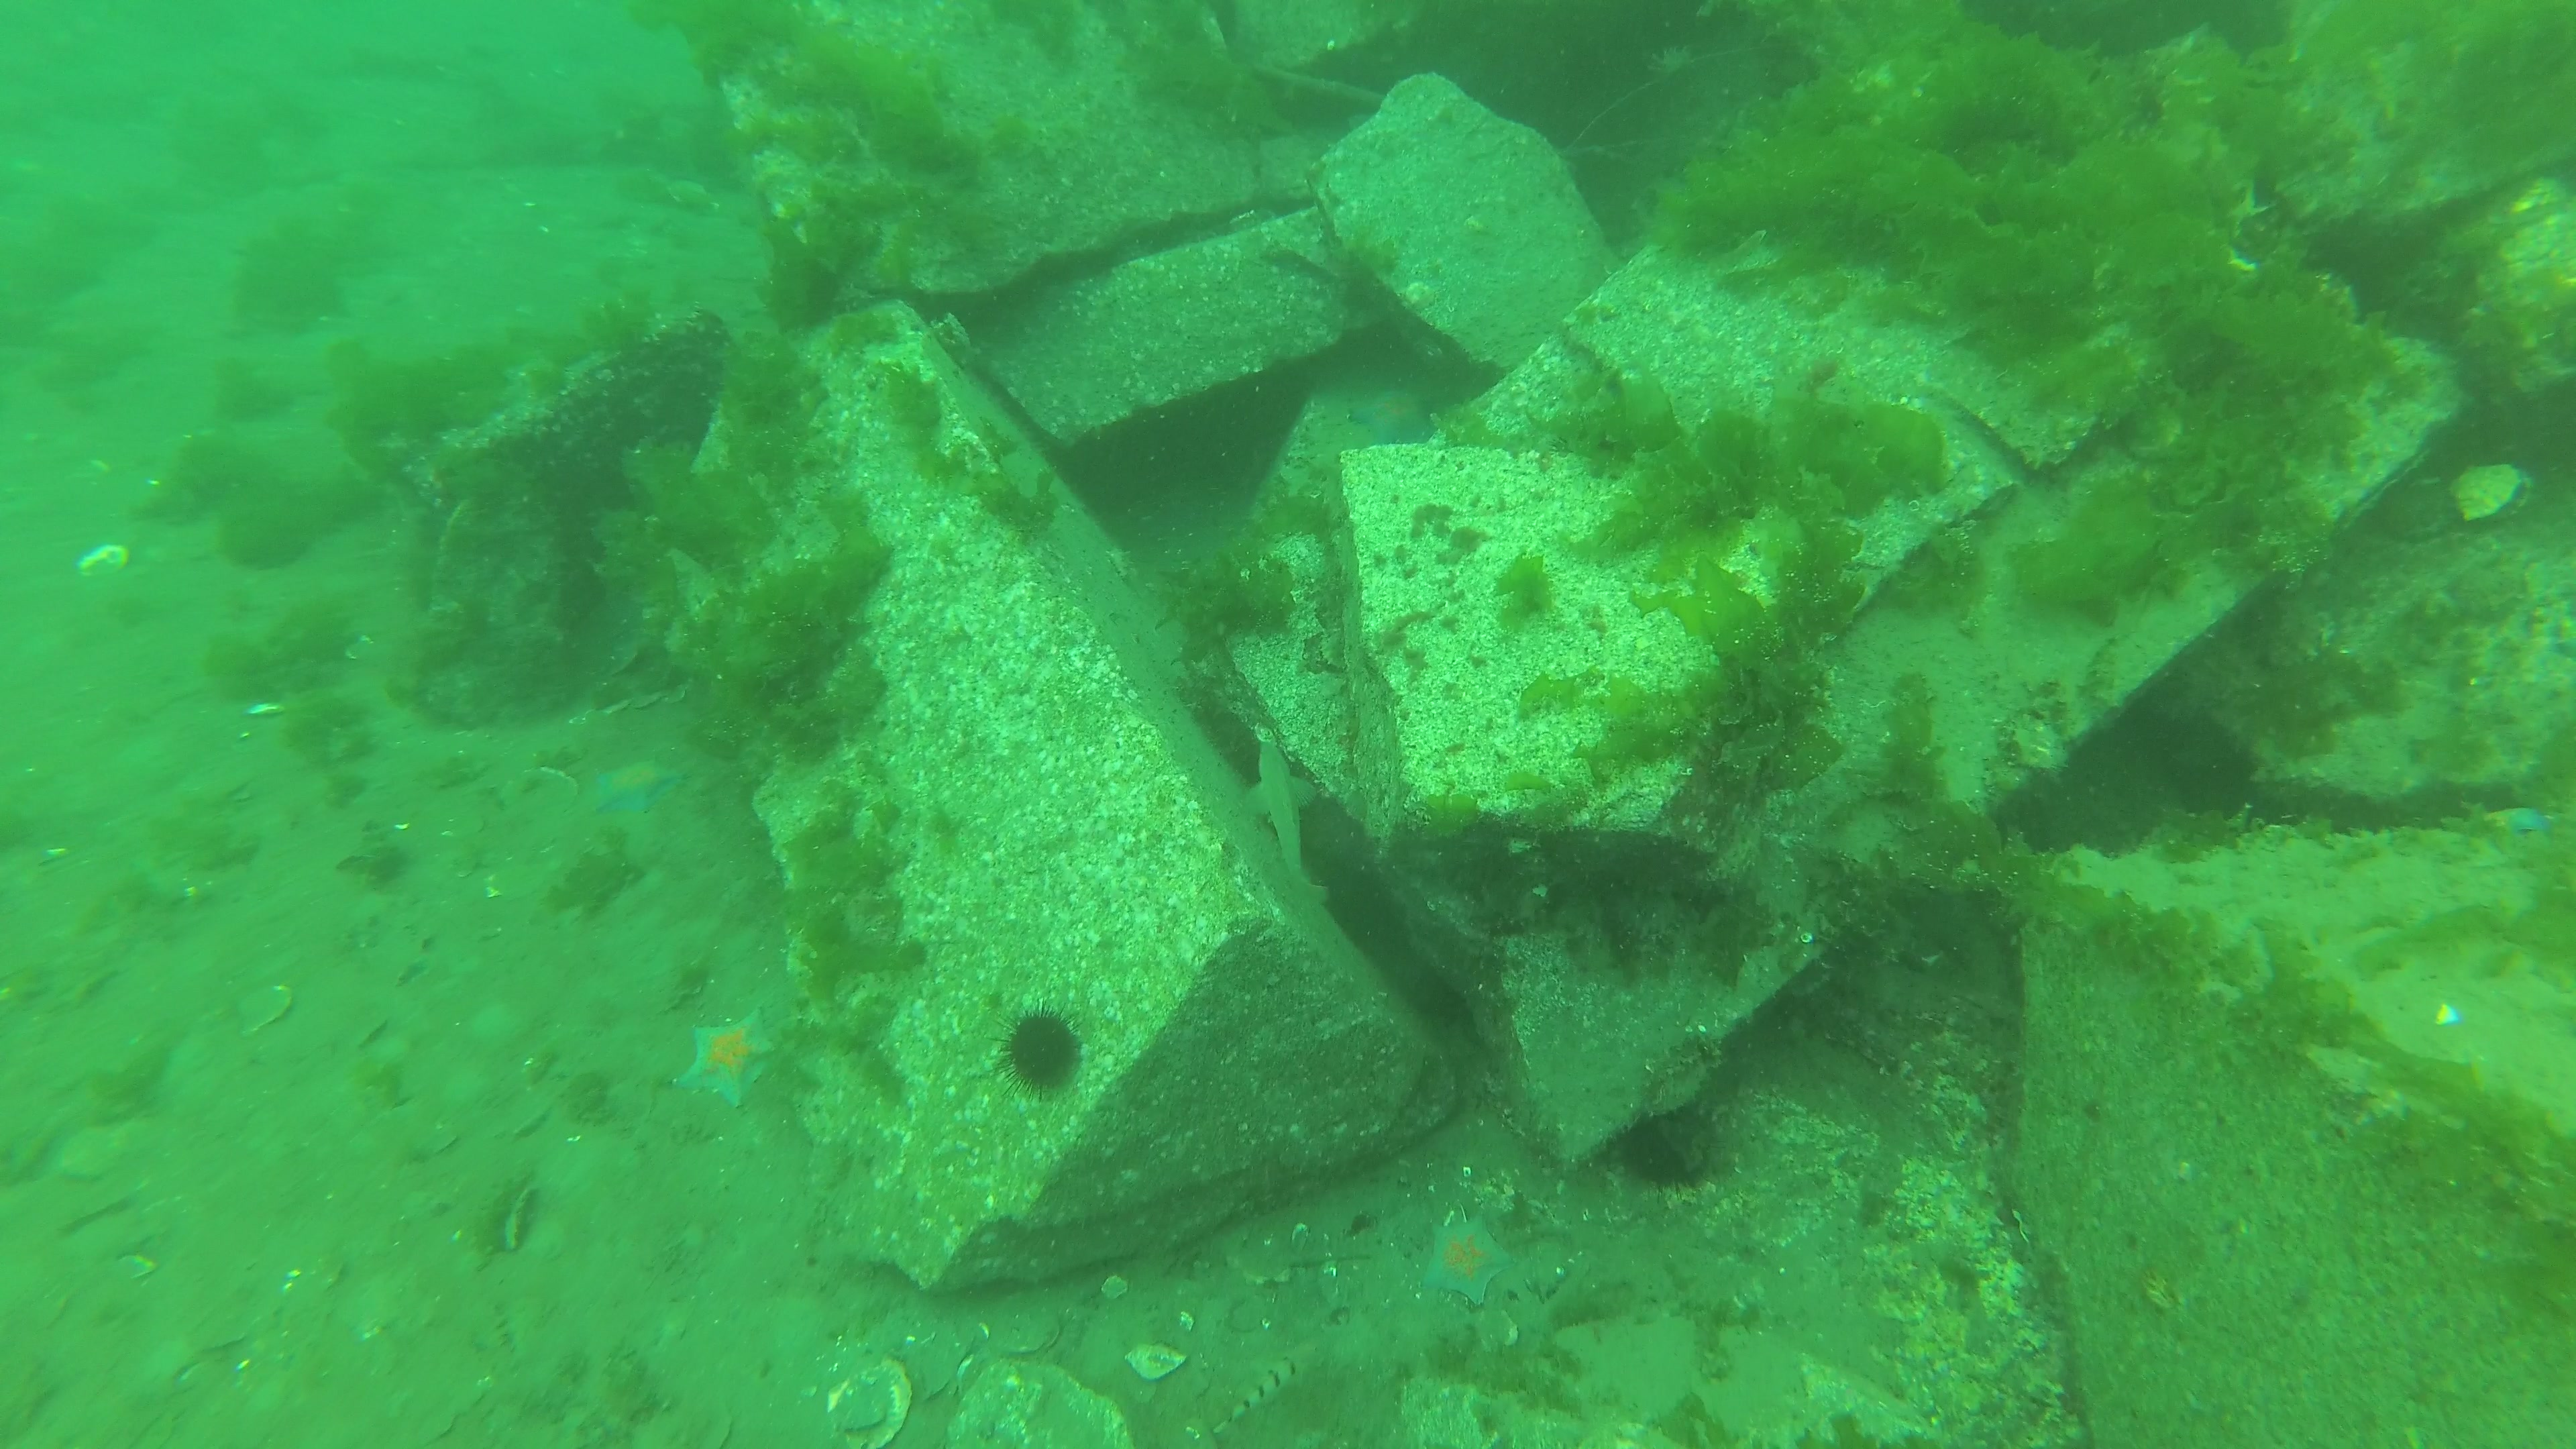echinus: (1001, 1008, 1092, 1102), (1614, 1116, 1718, 1194)
scallop: (2445, 453, 2537, 529)
starfish: (681, 1010, 784, 1115), (1419, 1214, 1511, 1313), (589, 750, 685, 823)
